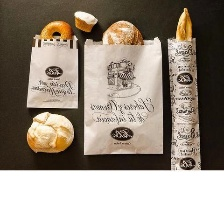snack: (80, 33, 168, 157), (164, 32, 206, 169), (23, 31, 81, 112)
